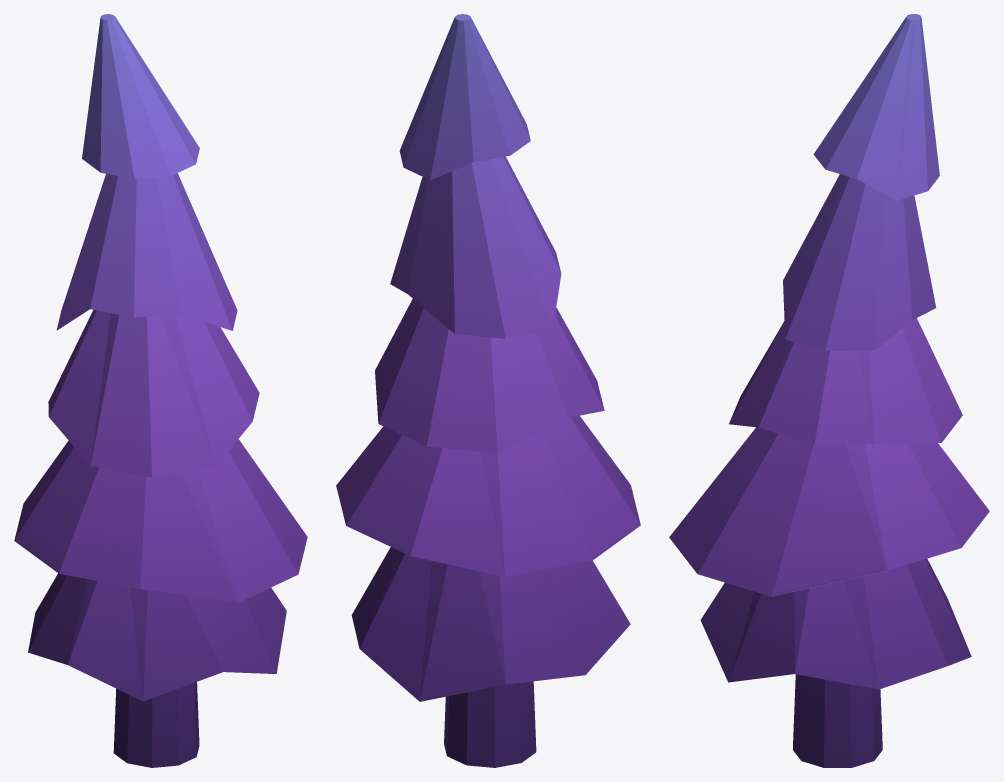
Rendered from Night_Plant_001.FBX.
The picture shows the model from 3 angles, left to right: view 1: azimuth 30°, elevation 25°; view 2: azimuth 150°, elevation 25°; view 3: azimuth 270°, elevation 25°; orthographic projection. The views are drawn at different scales.
Visible parts, largest first — view 1: Night_Plant_001; view 2: Night_Plant_001; view 3: Night_Plant_001.
Boxes of the visible parts, x1,y1,x2,y2 form: Night_Plant_001: [14, 14, 307, 767]; Night_Plant_001: [336, 14, 640, 767]; Night_Plant_001: [669, 14, 989, 767].
Bounding box in the file's own units: 103 × 292 × 117.
Materials: 1 (1 with a texture image).
